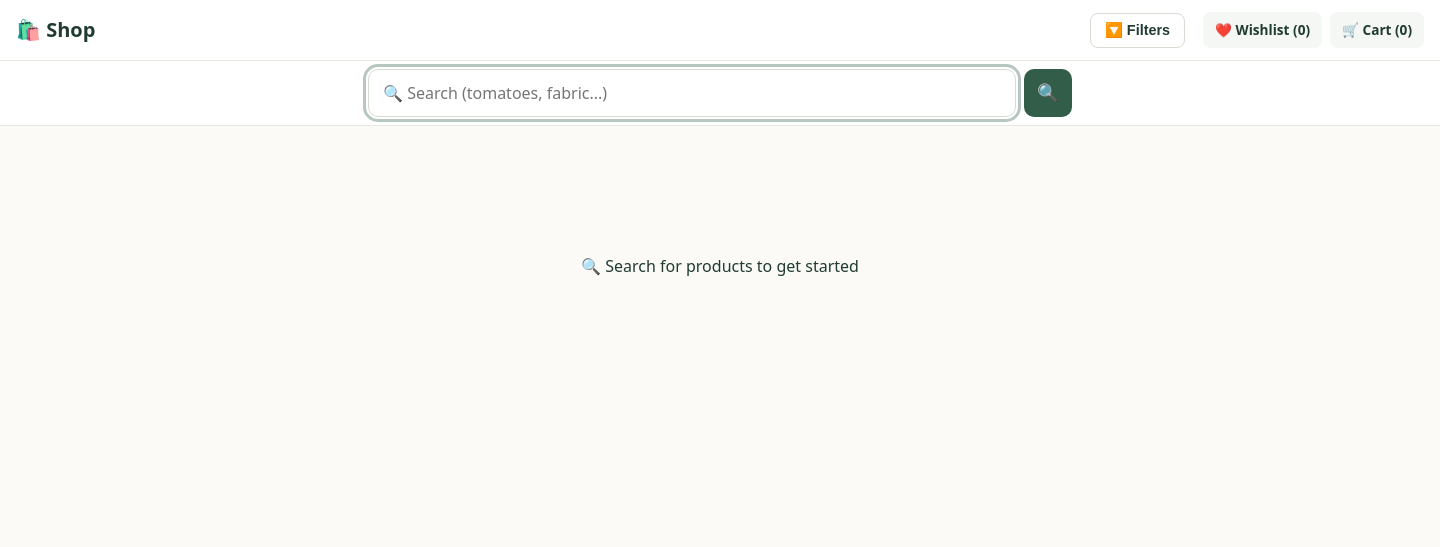
minimal shopping page › adds the first available option to the cart in the shape the cart page reads
Type "orange" into the field named "Search products". click: x=692, y=93
box: [368,69,1016,117]
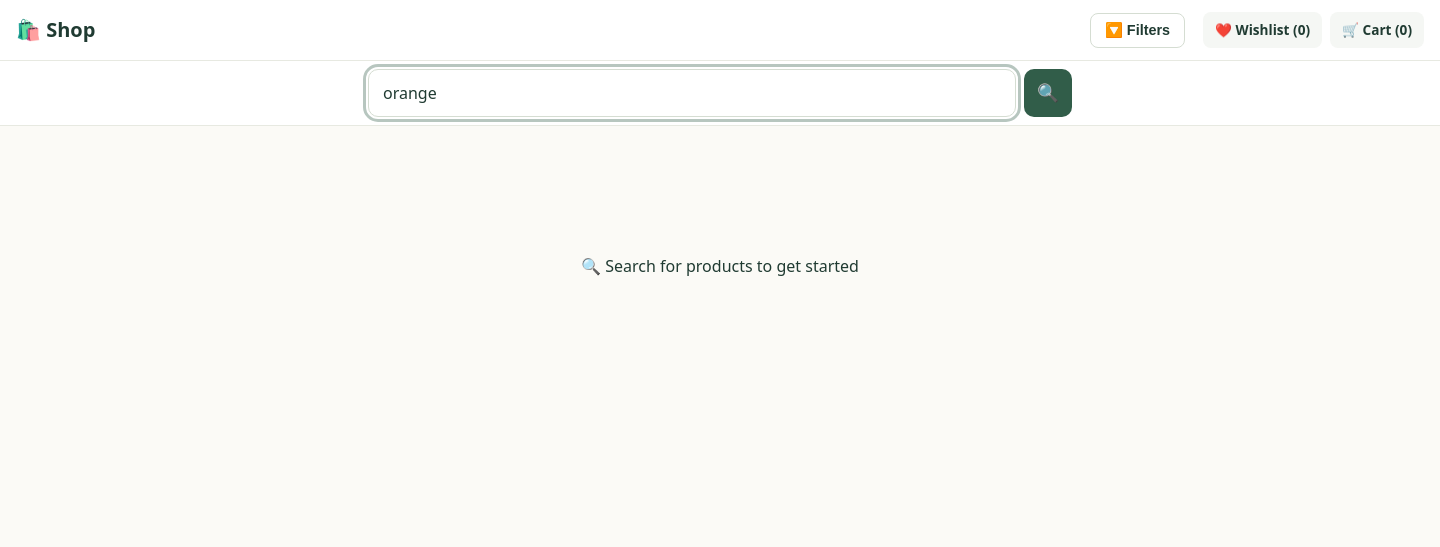
Submit the form, box [368,69,1072,117]
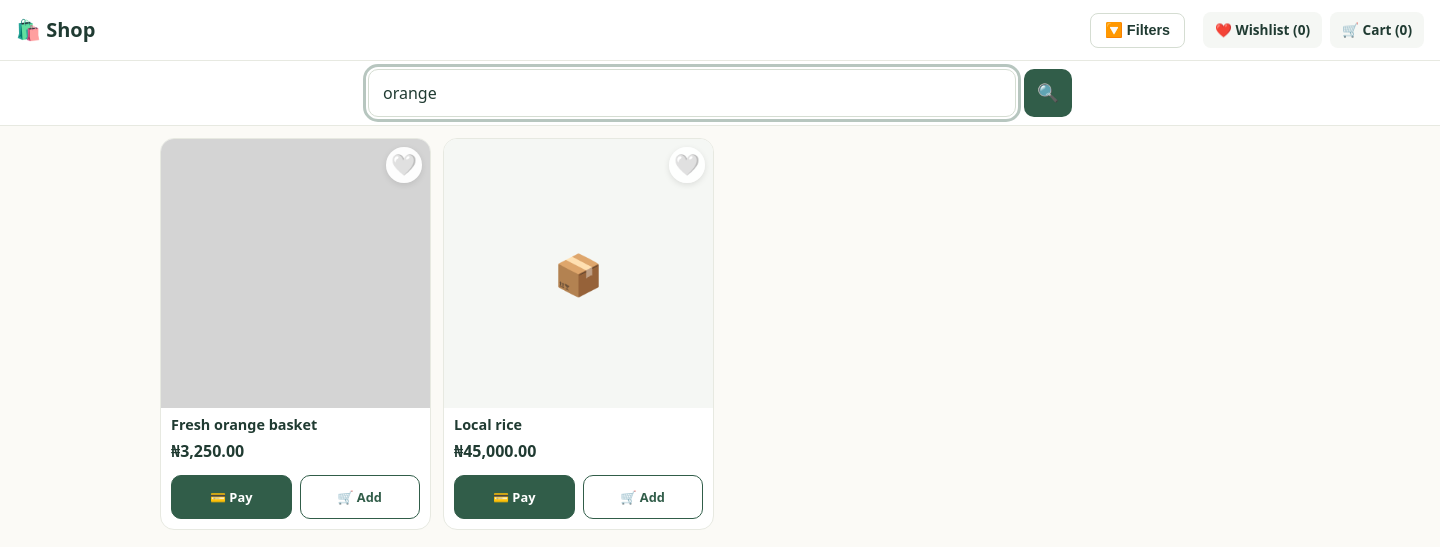
Expected: the heading "Fresh orange basket" is shown, [171,415,317,434]
Click the button with aria-label "Add Fresh orange basket to cart". click: x=360, y=497
box: [300,475,420,519]
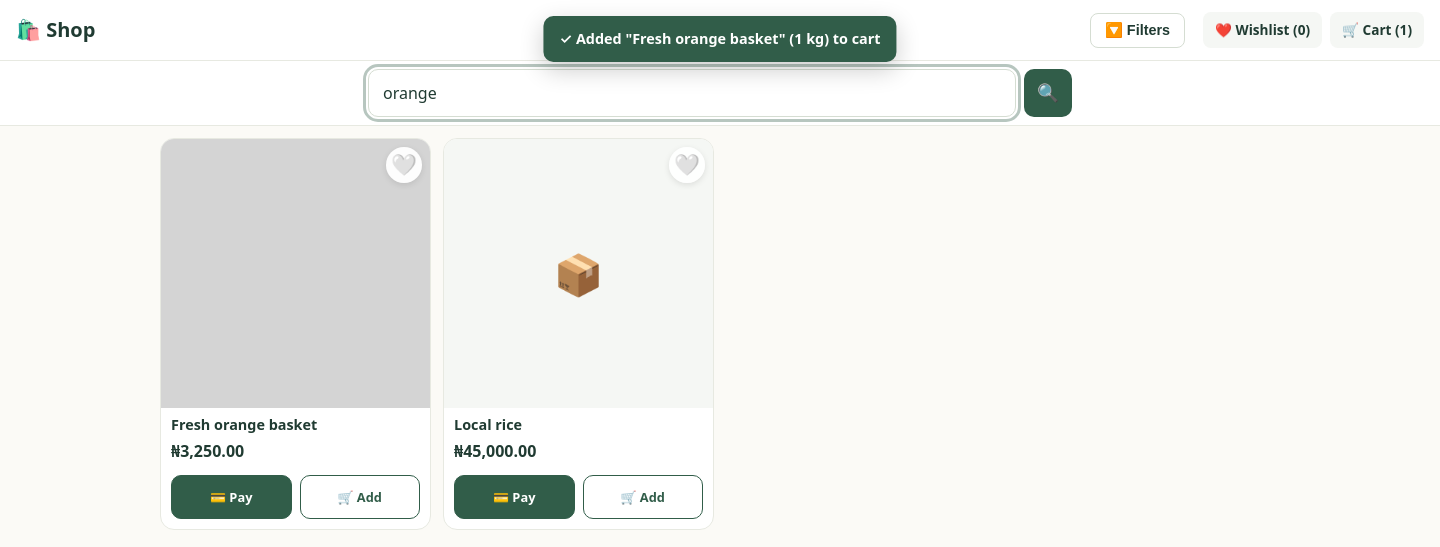
Expected: the link "🛒 Cart (1)" is shown, [1330,12,1424,48]
